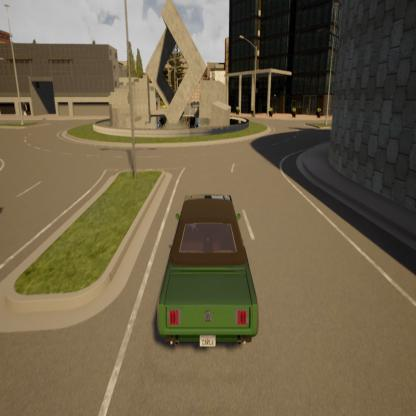Cars: (148, 182, 263, 363)
